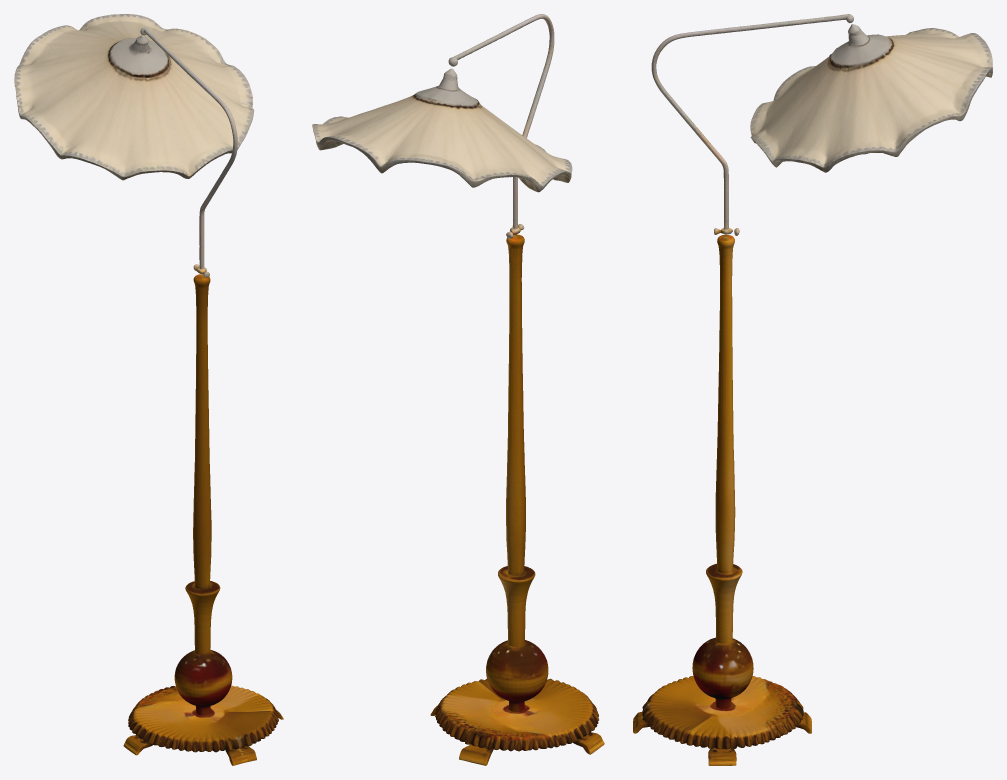
The picture shows the model from 3 angles, left to right: view 1: azimuth 30°, elevation 25°; view 2: azimuth 150°, elevation 25°; view 3: azimuth 270°, elevation 25°; orthographic projection. The views are drawn at different scales.
Visible parts, largest first — view 1: tripo_node_ffea50e0-9c57-4c51-bae6-eeba54887fc3; view 2: tripo_node_ffea50e0-9c57-4c51-bae6-eeba54887fc3; view 3: tripo_node_ffea50e0-9c57-4c51-bae6-eeba54887fc3.
Boxes of the visible parts, x1,y1,x2,y2 form: tripo_node_ffea50e0-9c57-4c51-bae6-eeba54887fc3: [14, 14, 283, 765]; tripo_node_ffea50e0-9c57-4c51-bae6-eeba54887fc3: [312, 14, 604, 765]; tripo_node_ffea50e0-9c57-4c51-bae6-eeba54887fc3: [633, 14, 992, 765].
Size of the model in its own units: 0.3311 by 1 by 0.4574.
Materials: 1 (1 with a texture image).
